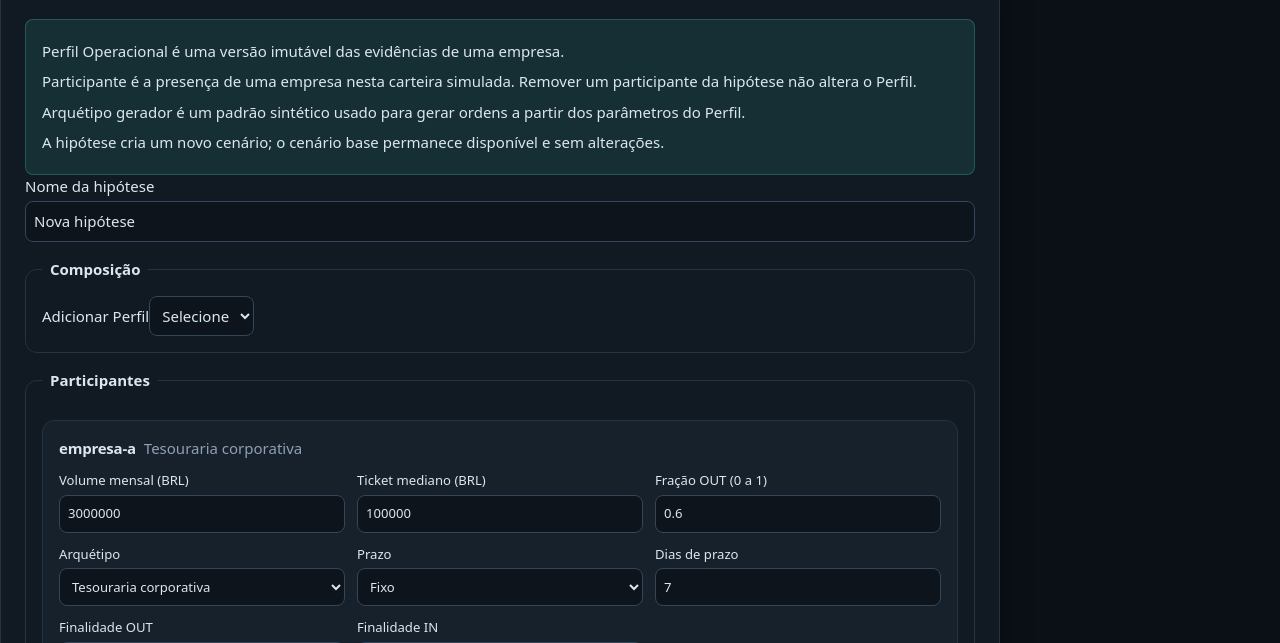
Test case: CompositionHypothesisBuilder › preserva o rascunho e oferece retry quando a criação falha
Replace the text in the number field labelled "Volume mensal (BRL)" with "2500000" at x=202, y=514, box [59,495,345,533]
(page scrolled)
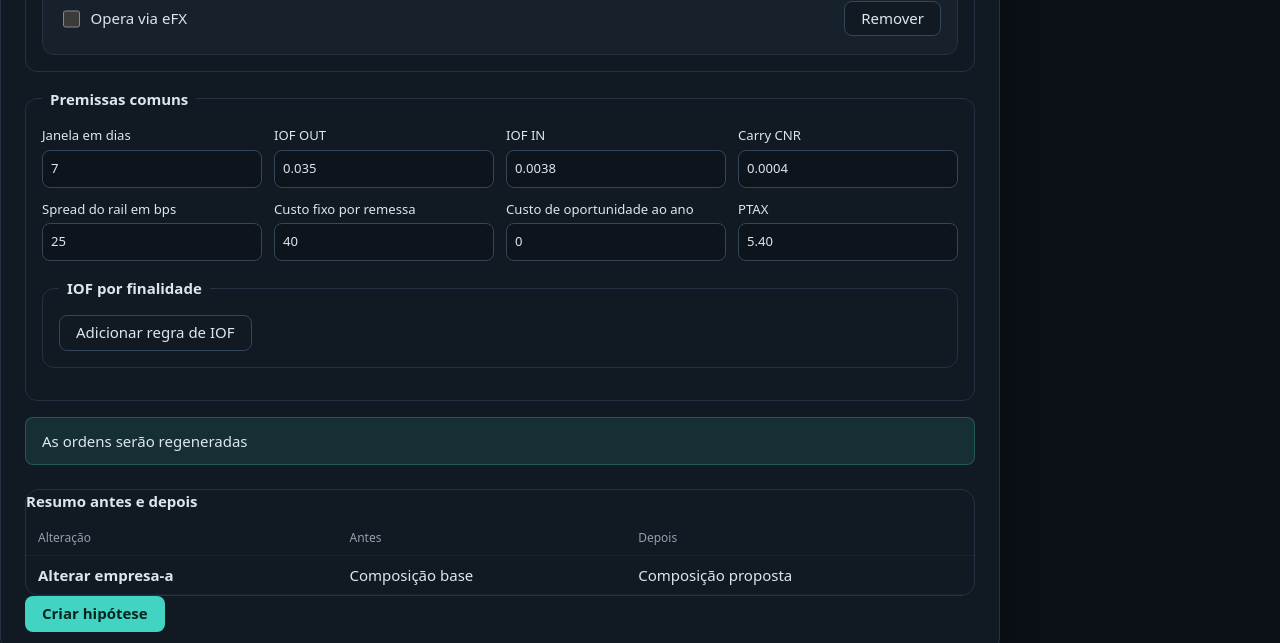
Click the button "Criar hipótese" at x=95, y=614, box [25,596,165,632]
(page scrolled)
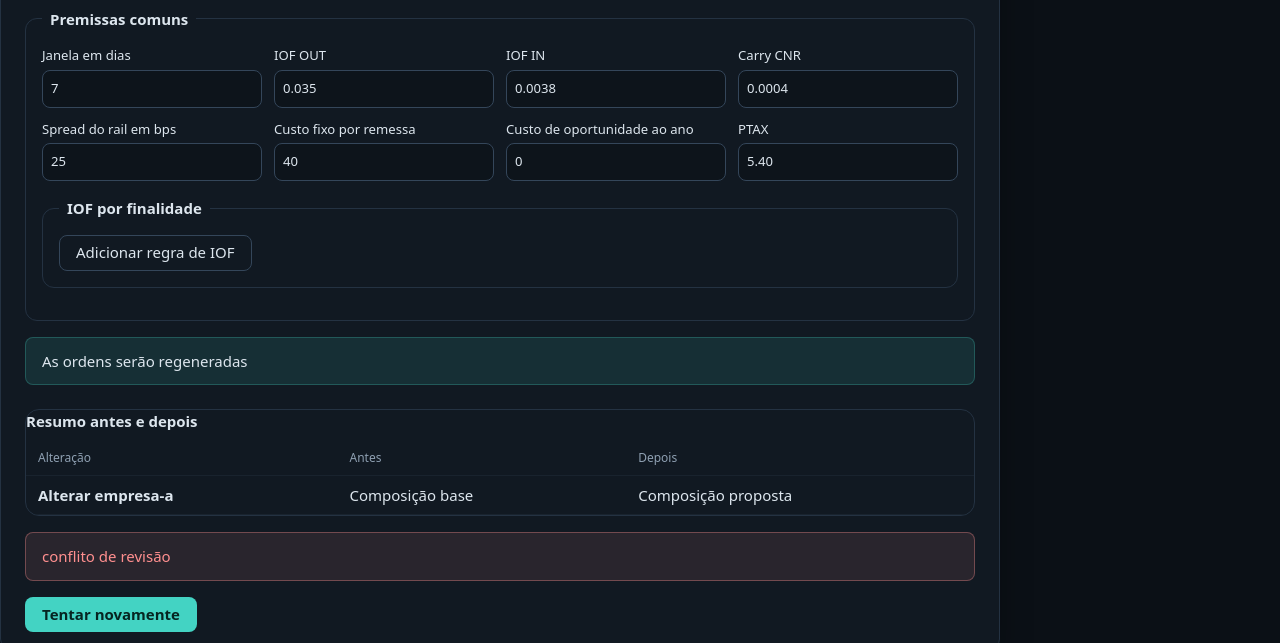
expect the message "conflito de revisão" is shown: met, box [25,532,975,581]
expect the button "Tentar novamente" is shown: met, box [25,597,197,632]
